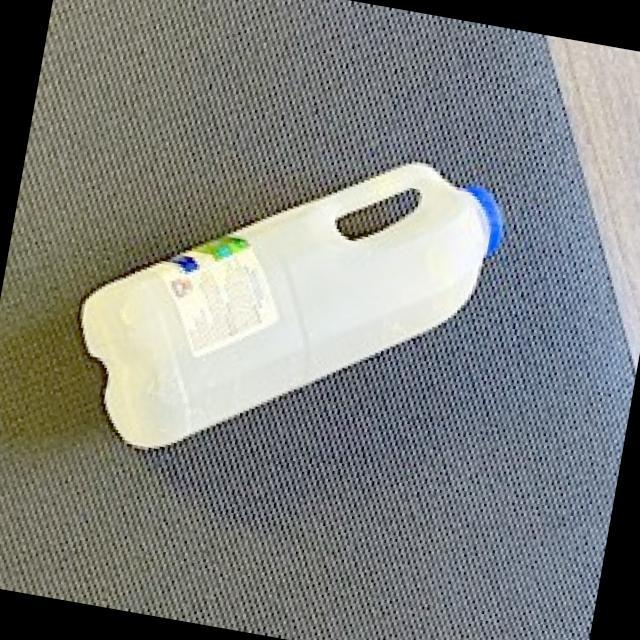HDPE Plastic: (74, 154, 510, 456)
